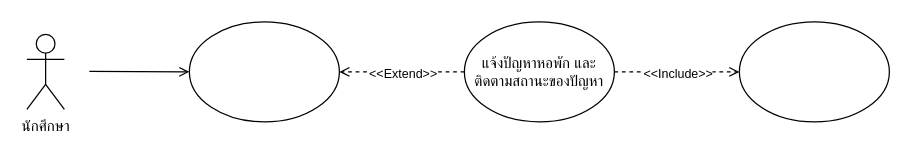
This 911x158 diagram has some shape labels left out. The centre of each missing label's shape, as x and y in pixels:
บันทึกปัญหาหอพัก: (x=813, y=71)
เข้าสู่ระบบในฐานะนักศึกษา: (x=263, y=71)
